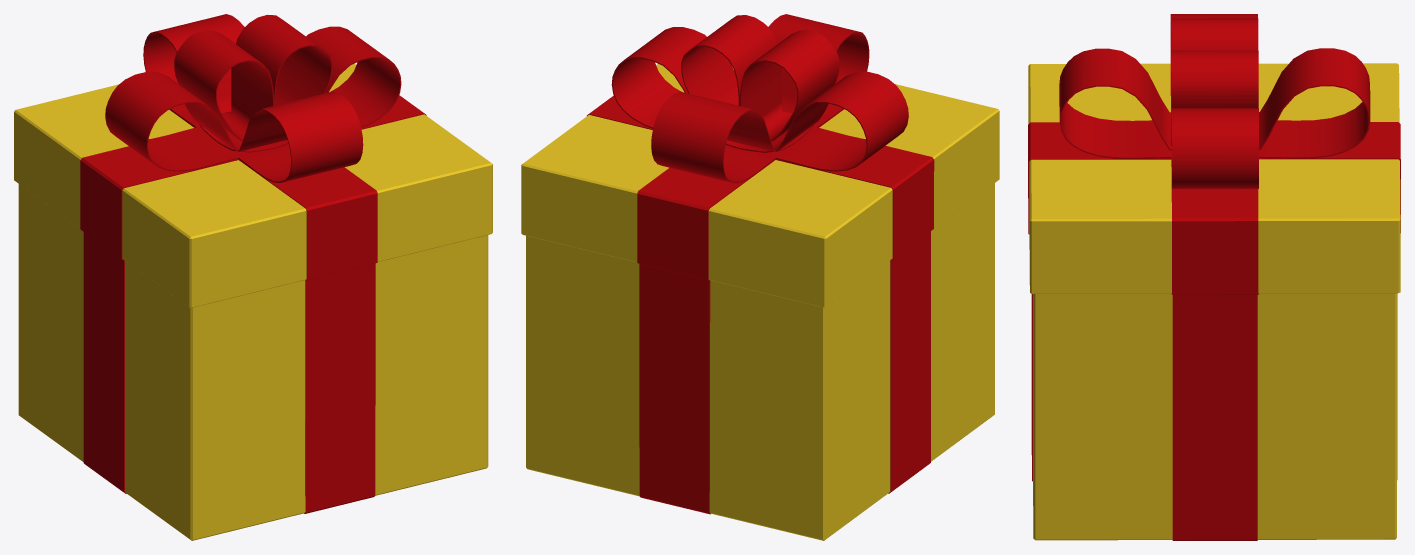
Rendered from Present_03.glb.
3 renders of one model, left to right at view 1: azimuth 30°, elevation 25°; view 2: azimuth 150°, elevation 25°; view 3: azimuth 270°, elevation 25°, orthographic. The views are drawn at different scales.
Visible parts, largest first — view 1: Present1; view 2: Present1; view 3: Present1.
Boxes of the visible parts, x1,y1,x2,y2 form: Present1: (14, 14, 492, 540); Present1: (521, 14, 999, 540); Present1: (1028, 14, 1400, 540).
Size of the model in its own units: 0.4062 by 0.5133 by 0.4064.
